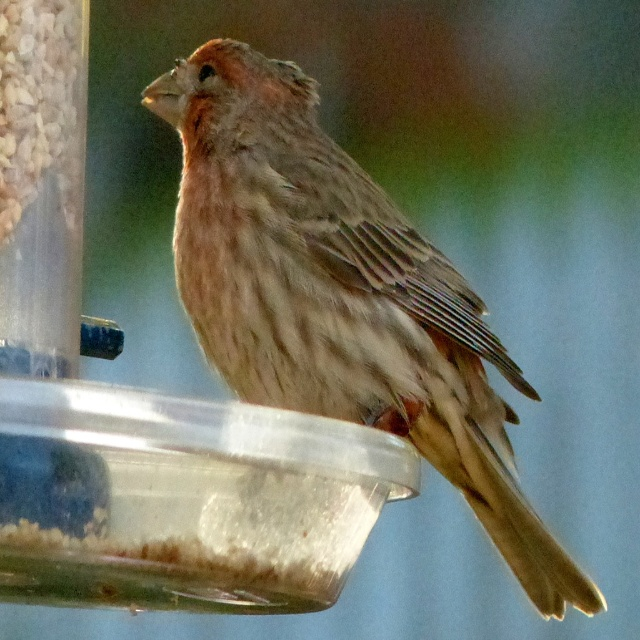Sparrow: (141, 38, 608, 621)
